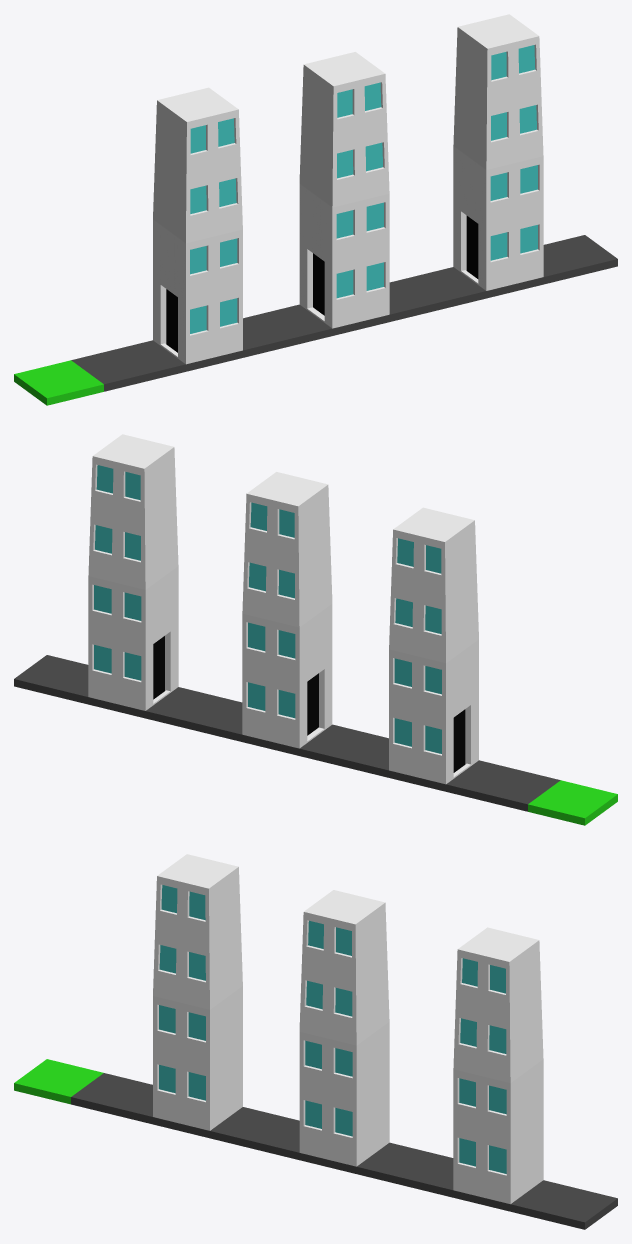
The model's file is Platform4.fbx.
The picture shows the model from 3 angles, top to bottom: view 1: azimuth 30°, elevation 25°; view 2: azimuth 150°, elevation 25°; view 3: azimuth 330°, elevation 25°; orthographic projection.
Parts seen in each view (by area): view 1: Building 2, Building 1, Building 3, Platform1Conc1, Platform4Grass2, Platform1Grass; view 2: Building 2, Building 1, Building 3, Platform1Conc1, Platform4Grass2, Platform1Grass; view 3: Building 2, Building 1, Building 3, Platform4Grass2, Platform1Conc1, Platform1Grass.
Part boxes in pixels (x1,y1,x2,y2): Building 2: [299, 52, 389, 328]; Building 1: [453, 14, 543, 290]; Building 3: [153, 87, 242, 364]; Platform1Conc1: [71, 304, 389, 391]; Platform4Grass2: [389, 235, 617, 321]; Platform1Grass: [14, 360, 103, 405]; Building 2: [242, 472, 332, 748]; Building 1: [88, 434, 178, 710]; Building 3: [389, 507, 478, 784]; Platform1Conc1: [242, 724, 560, 811]; Platform4Grass2: [14, 655, 242, 741]; Platform1Grass: [528, 780, 617, 825]; Building 2: [299, 890, 389, 1166]; Building 1: [453, 927, 543, 1204]; Building 3: [153, 854, 242, 1130]; Platform4Grass2: [356, 1142, 617, 1229]; Platform1Conc1: [71, 1073, 356, 1173]; Platform1Grass: [14, 1059, 103, 1104].
Bounding box in the file's own units: 2000 × 830 × 200.
